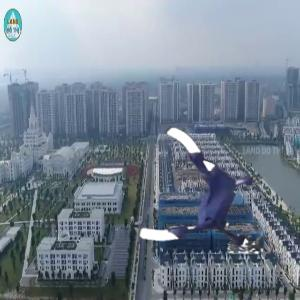drone: (139, 127, 266, 254)
